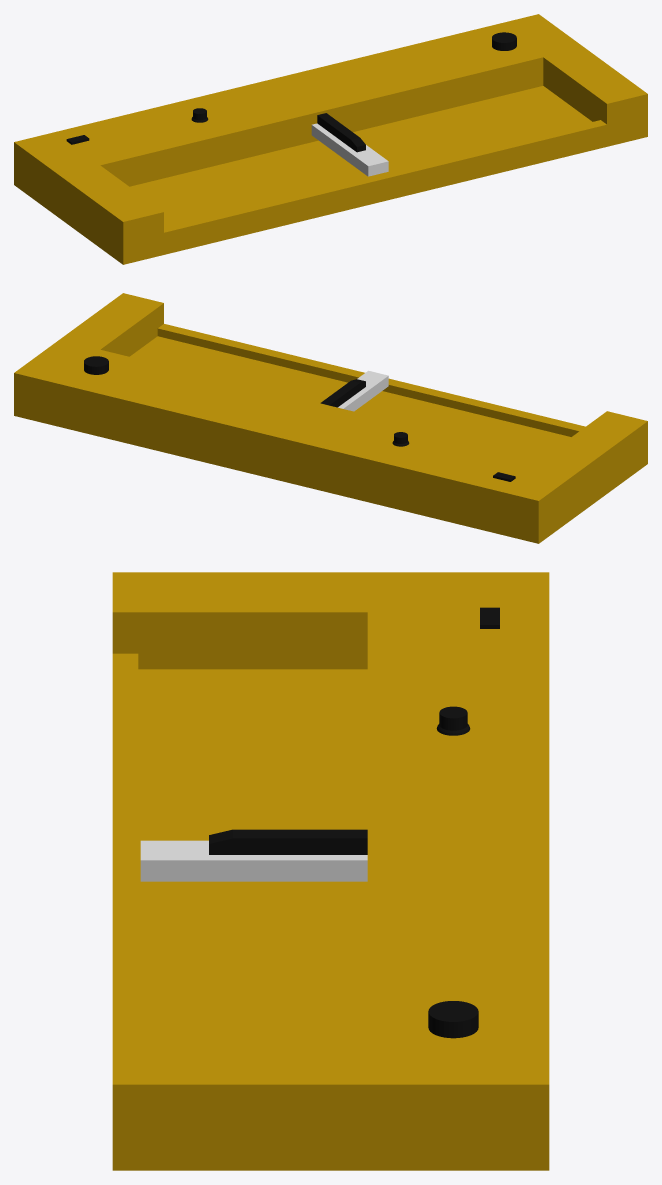
The model's file is keyboard.glb.
3 views of the same model, one above another, from view 1: azimuth 30°, elevation 25°; view 2: azimuth 150°, elevation 25°; view 3: azimuth 270°, elevation 25° (orthographic). The views are drawn at different scales.
Parts seen in each view (by area): view 1: keyboardBase, leftToBlackKey, blackKey, middleKey, volumeKnob; view 2: keyboardBase, leftToBlackKey, blackKey, volumeKnob; view 3: keyboardBase, rightToBlackKey, blackKey, leftToBlackKey, volumeKnob, fullSizeKey.
Part boxes in pixels (x1,y1,x2,y2): keyboardBase: [14, 14, 647, 264]; leftToBlackKey: [311, 123, 388, 176]; blackKey: [317, 113, 365, 152]; middleKey: [322, 127, 386, 176]; volumeKnob: [492, 32, 516, 50]; keyboardBase: [14, 293, 647, 543]; leftToBlackKey: [338, 371, 388, 411]; blackKey: [320, 379, 365, 407]; volumeKnob: [84, 356, 108, 374]; keyboardBase: [112, 572, 549, 1170]; rightToBlackKey: [140, 840, 367, 881]; blackKey: [209, 829, 367, 854]; leftToBlackKey: [140, 840, 367, 881]; volumeKnob: [428, 1001, 478, 1038]; fullSizeKey: [144, 855, 367, 859].
Size of the model in its own units: 0.8484 by 0.0802 by 0.3057.
